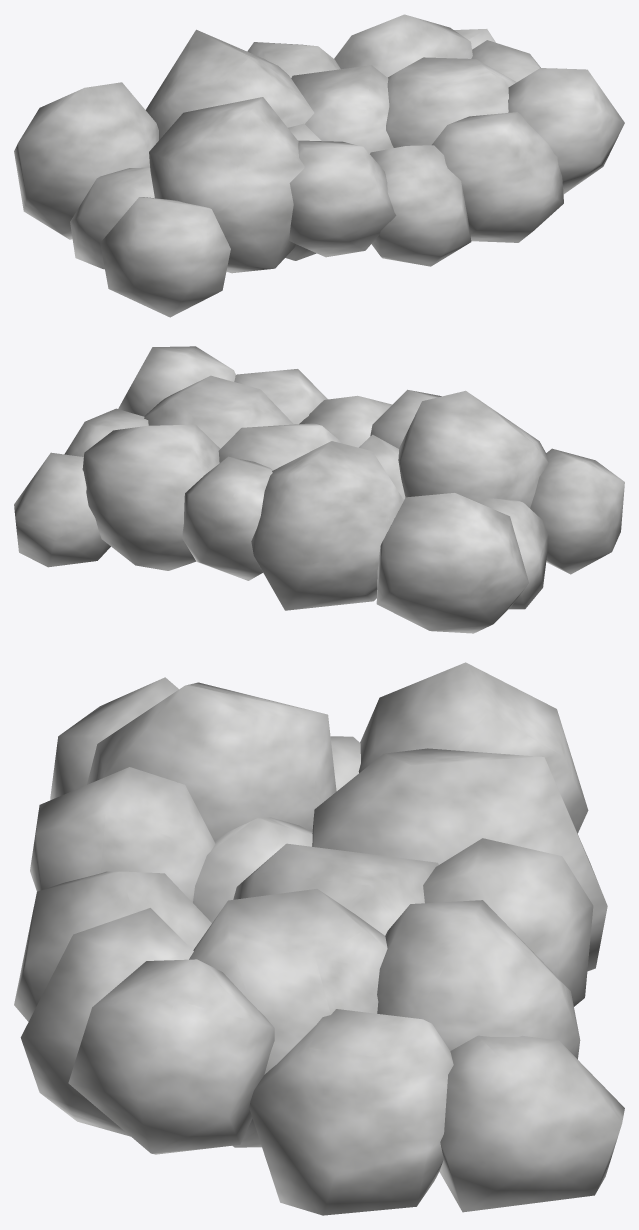
The model's file is pas_keru_v2.glb.
The picture shows the model from 3 angles, top to bottom: view 1: azimuth 30°, elevation 25°; view 2: azimuth 150°, elevation 25°; view 3: azimuth 270°, elevation 25°; orthographic projection. The views are drawn at different scales.
Parts seen in each view (by area): view 1: dum; view 2: dum; view 3: dum.
Boxes of the visible parts, x1,y1,x2,y2 form: dum: [14, 14, 624, 317]; dum: [14, 346, 624, 633]; dum: [14, 662, 624, 1215].
Bounding box in the file's own units: 2.6 × 0.8025 × 1.67.
Materials: 1 (1 with a texture image).
